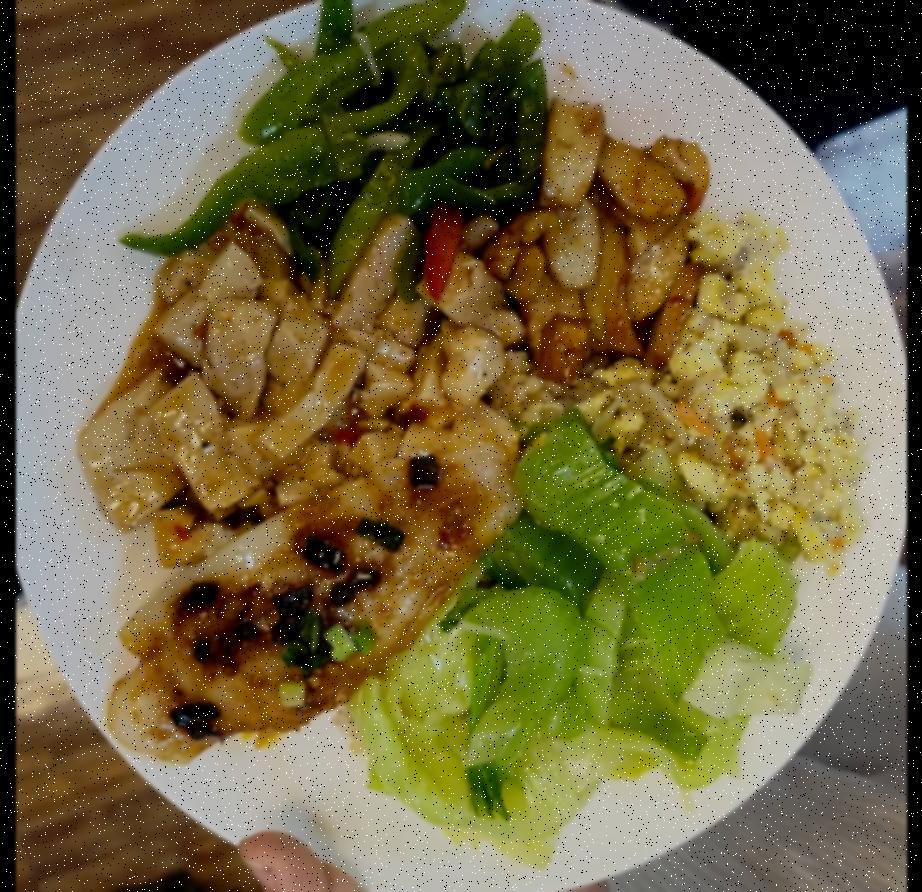big fried chicken leg: (30, 0, 890, 884)
braised fish fillet: (371, 460, 795, 836), (88, 220, 511, 498), (573, 246, 874, 576), (204, 3, 564, 264), (492, 108, 708, 389)
braised pork ribs: (112, 412, 527, 786)
